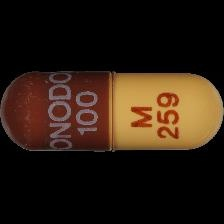16110-259: (0, 0, 224, 224)
